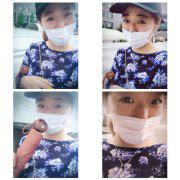OK: (34, 97, 73, 136)
WRONG: (108, 94, 164, 150), (41, 7, 77, 43), (122, 13, 157, 48)
